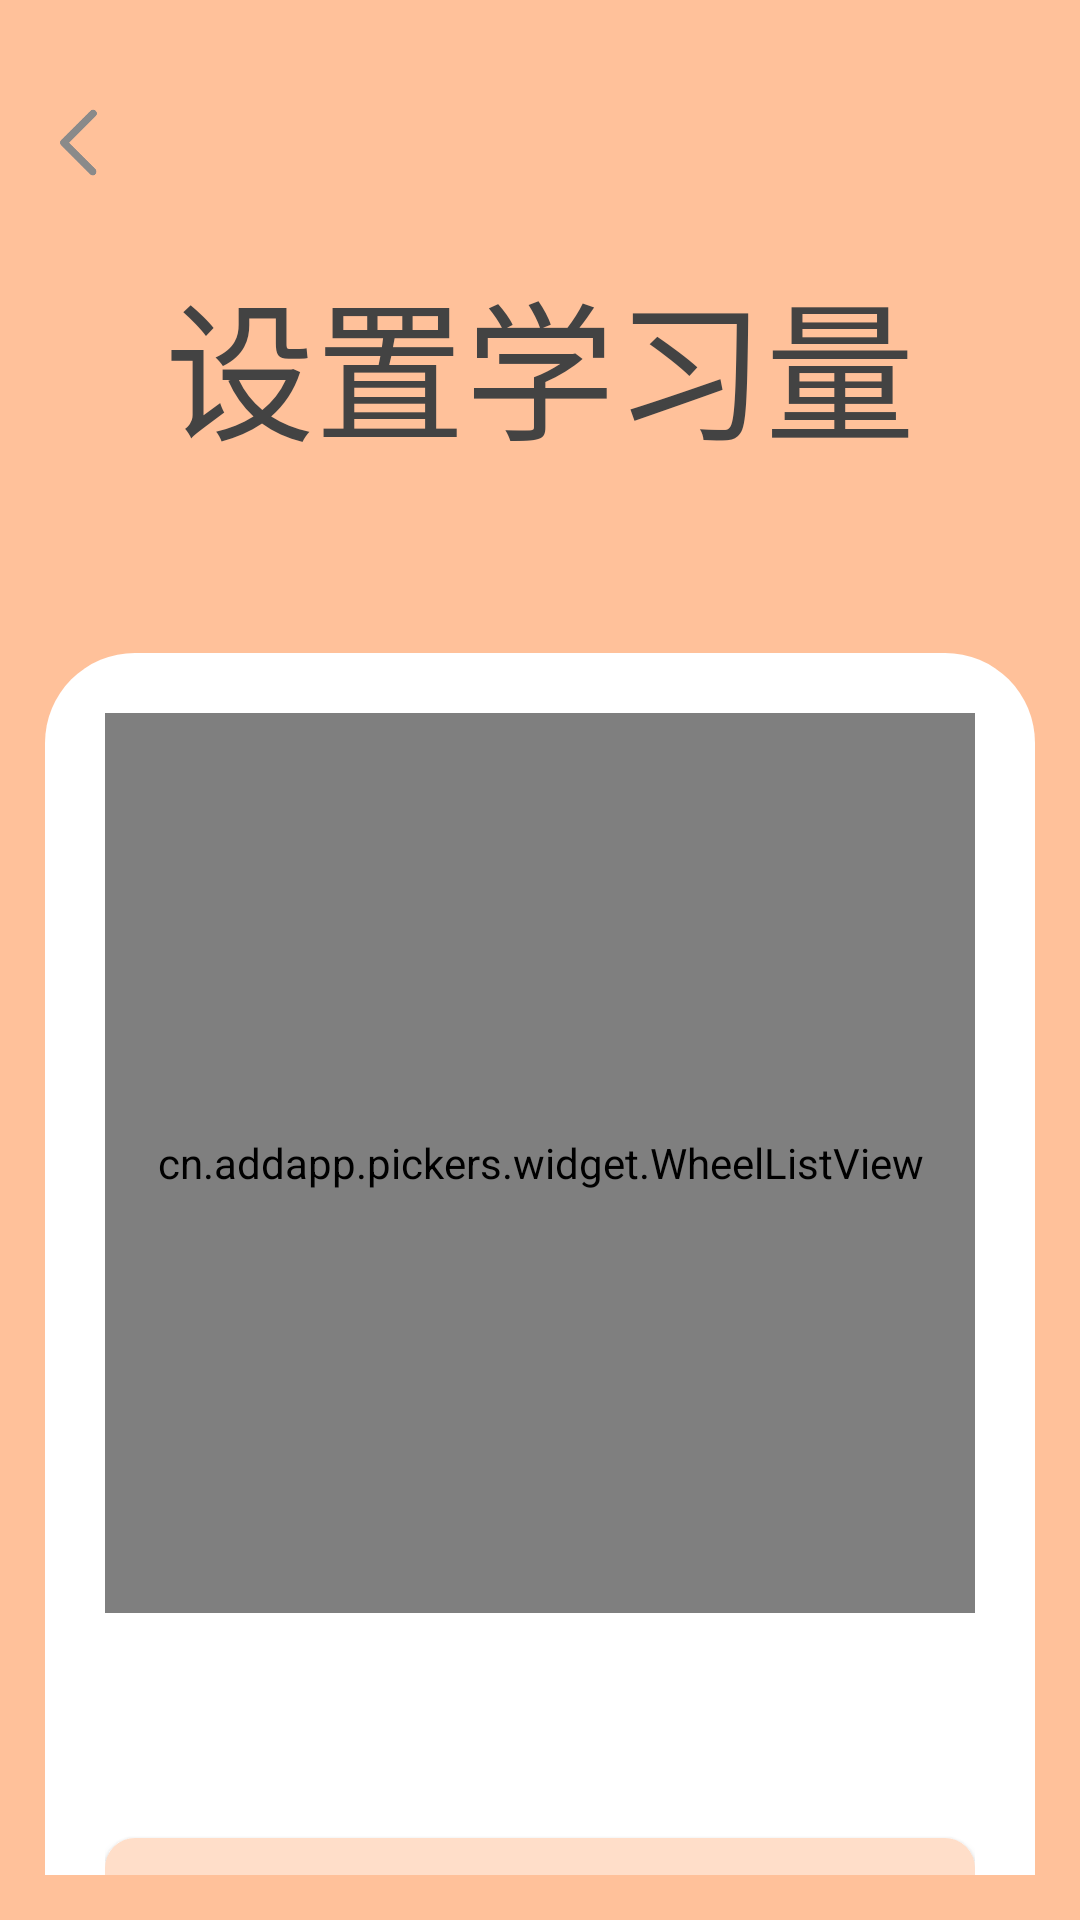

Named icons in this screenshot (1080px x 1920px) and their bounding boxes, (x1, y1, x2, y2):
fanhui: (60, 110, 97, 176)
